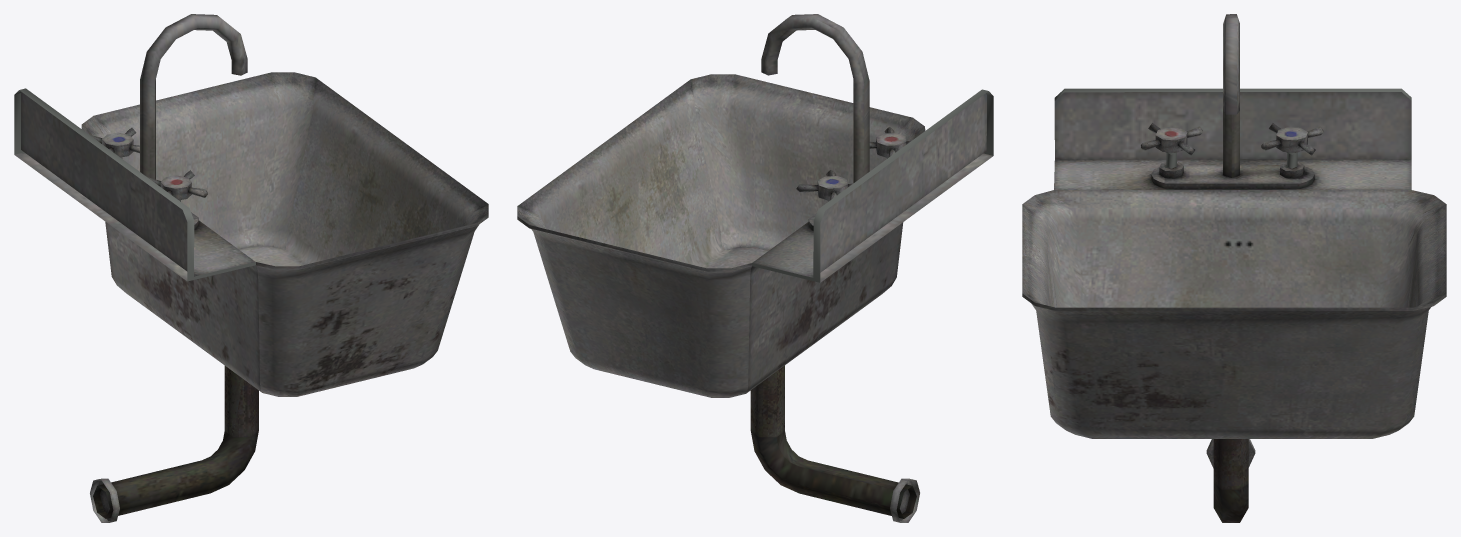
File: sinkkitchen01a.glb
3 views of the same model, side by side, from view 1: azimuth 30°, elevation 25°; view 2: azimuth 150°, elevation 25°; view 3: azimuth 270°, elevation 25° (orthographic). The views are drawn at different scales.
Parts seen in each view (by area): view 1: sinkkitchen01a.mdl/SinkKitchen01a_reference.smd; view 2: sinkkitchen01a.mdl/SinkKitchen01a_reference.smd; view 3: sinkkitchen01a.mdl/SinkKitchen01a_reference.smd.
Part boxes in pixels (<box>): sinkkitchen01a.mdl/SinkKitchen01a_reference.smd: <box>14,14,488,522</box>; sinkkitchen01a.mdl/SinkKitchen01a_reference.smd: <box>517,14,993,522</box>; sinkkitchen01a.mdl/SinkKitchen01a_reference.smd: <box>1022,14,1446,522</box>.
Size of the model in its own units: 0.2327 by 0.3561 by 0.2741.
Materials: 1 (1 with a texture image).
